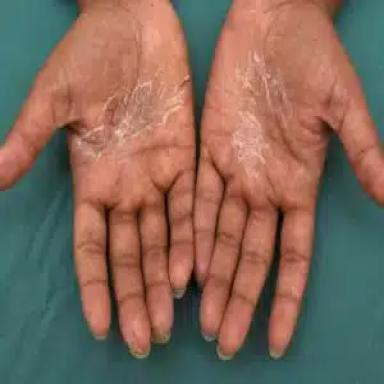eczema: (227, 48, 294, 180), (76, 81, 187, 159)
